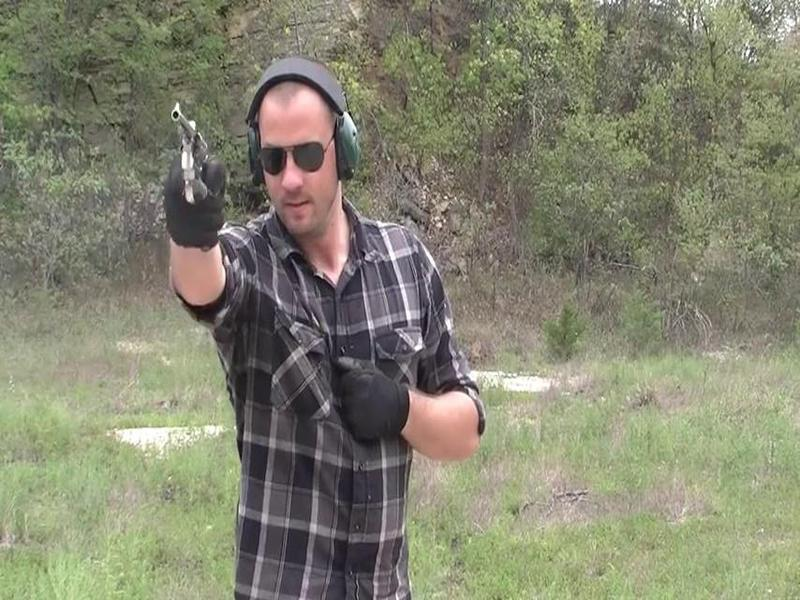Revolver: (164, 103, 235, 215)
